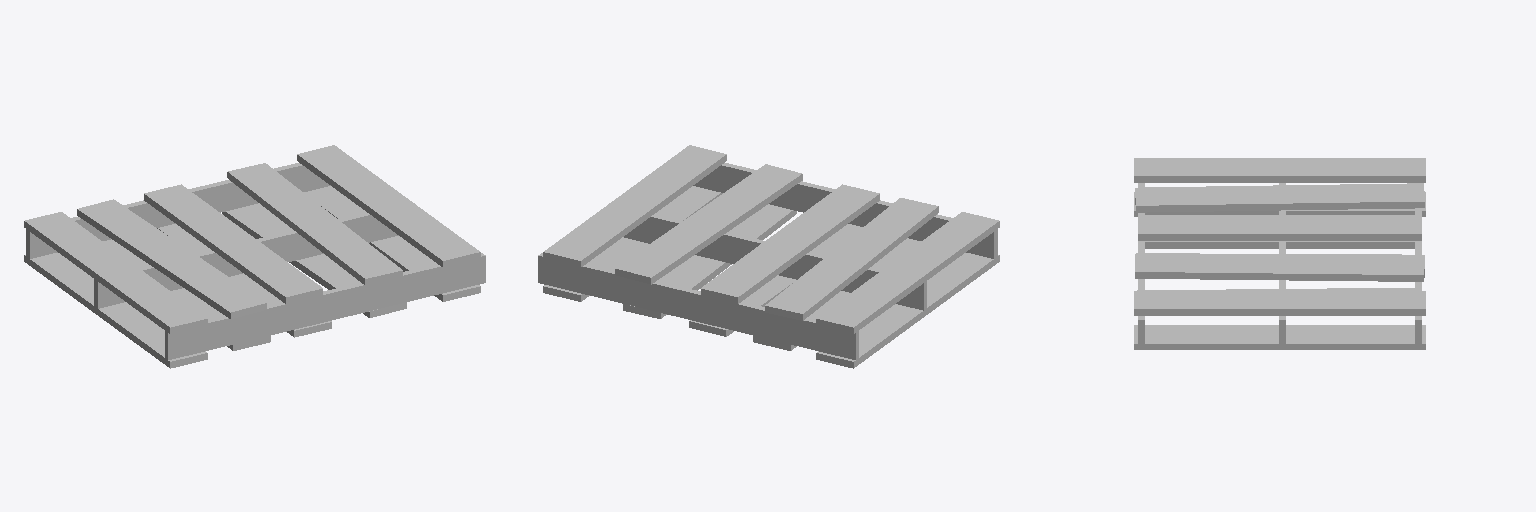
The model's file is Palet.obj.
3 views of the same model, side by side, from view 1: azimuth 30°, elevation 25°; view 2: azimuth 150°, elevation 25°; view 3: azimuth 270°, elevation 25° (orthographic).
Visible parts, largest first — view 1: Palet_single; view 2: Palet_single; view 3: Palet_single.
Boxes of the visible parts, x1,y1,x2,y2 form: Palet_single: [24, 145, 485, 368]; Palet_single: [538, 145, 999, 368]; Palet_single: [1134, 158, 1425, 349].
Size of the model in its own units: 1.75 by 0.2164 by 1.4.